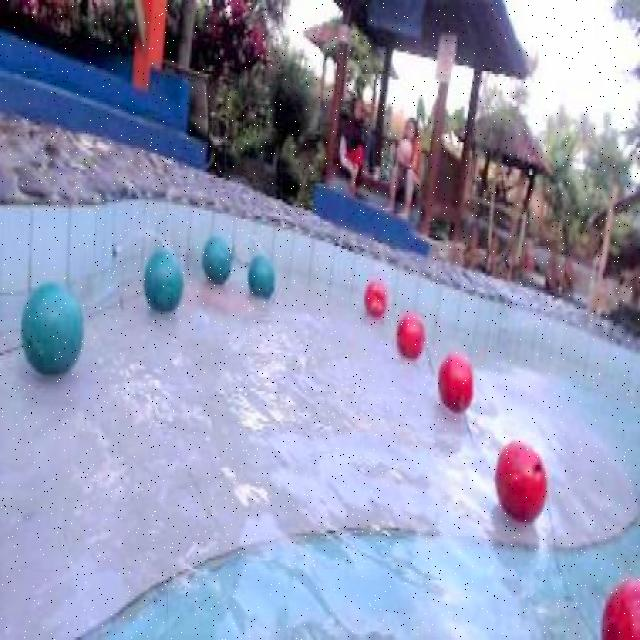buoy: (20, 279, 81, 372), (494, 439, 546, 524), (142, 250, 182, 313), (436, 352, 474, 413), (601, 578, 639, 637), (202, 234, 232, 284), (395, 312, 423, 362), (248, 254, 275, 298), (362, 279, 386, 317)
